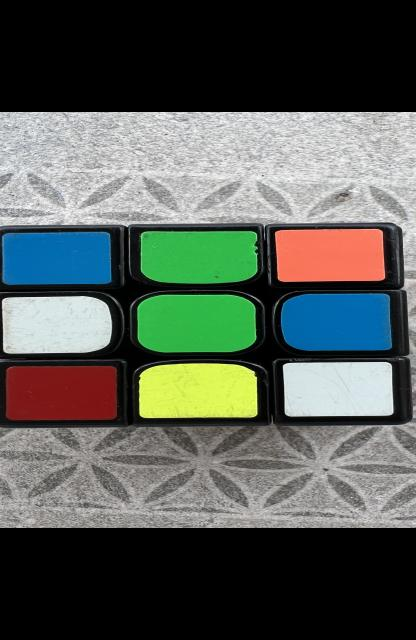Blue: (280, 293, 391, 351), (1, 231, 111, 285)
Green: (136, 295, 256, 352), (140, 231, 256, 283)
Orange: (275, 229, 385, 282)
Red: (5, 366, 116, 420)
White: (1, 296, 111, 353), (281, 362, 393, 417)
Yellow: (138, 363, 256, 418)
